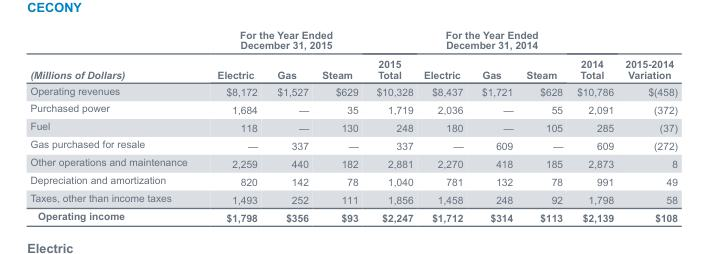table: (29, 28, 676, 222)
table column: (29, 28, 201, 222), (201, 28, 266, 222), (618, 28, 676, 222), (417, 28, 471, 222), (314, 28, 366, 222), (366, 28, 417, 222), (519, 28, 569, 222), (569, 28, 618, 222), (266, 28, 314, 222), (471, 28, 519, 222)
table column header: (29, 28, 676, 82)
table row: (29, 28, 676, 59), (29, 59, 676, 82), (29, 99, 676, 117), (29, 117, 676, 135), (29, 135, 676, 153), (29, 153, 676, 171), (29, 171, 676, 189), (29, 189, 676, 207), (29, 82, 676, 99), (29, 207, 676, 222)
table spanning cell: (29, 28, 201, 82), (201, 28, 366, 59), (417, 28, 569, 59), (618, 28, 676, 82), (366, 28, 417, 82), (569, 28, 618, 82)
